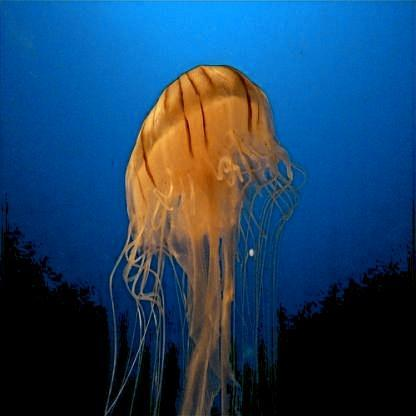Moon: (125, 65, 291, 387)
